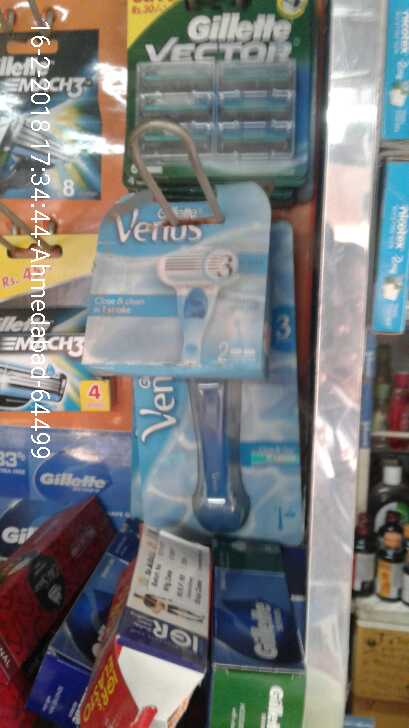beauty: (122, 9, 310, 185), (92, 198, 265, 378)
